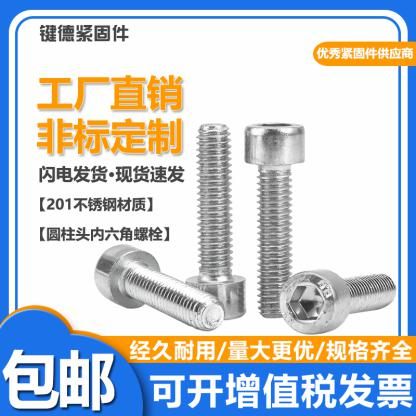FOD: (242, 119, 308, 320), (181, 124, 244, 320), (93, 242, 226, 332), (277, 268, 394, 334)
